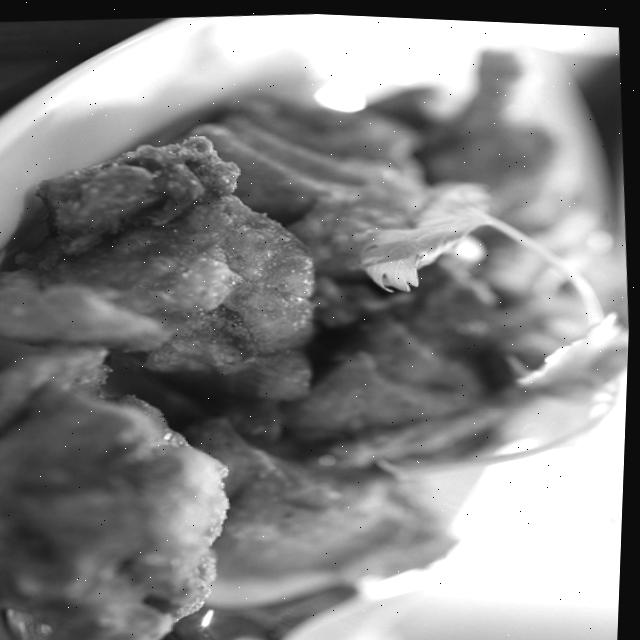鸡肉料理 含炸鸡: (0, 16, 640, 640)
